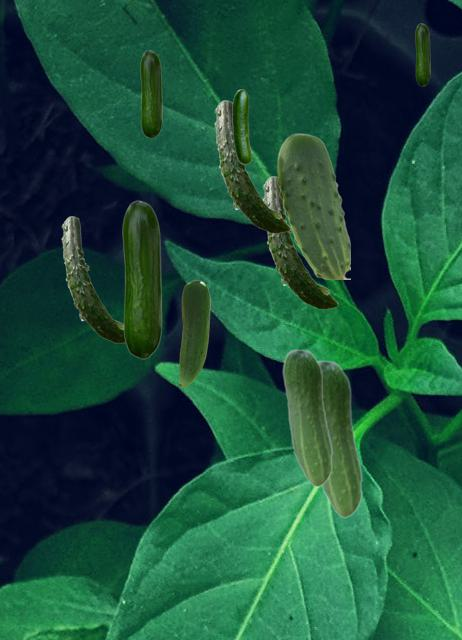cucumber: (277, 133, 349, 278), (262, 176, 337, 308), (214, 100, 289, 232), (61, 216, 124, 342), (318, 359, 362, 517), (282, 348, 332, 486), (122, 200, 161, 358), (179, 280, 209, 386), (140, 50, 161, 137), (232, 89, 250, 163), (415, 23, 429, 85)
